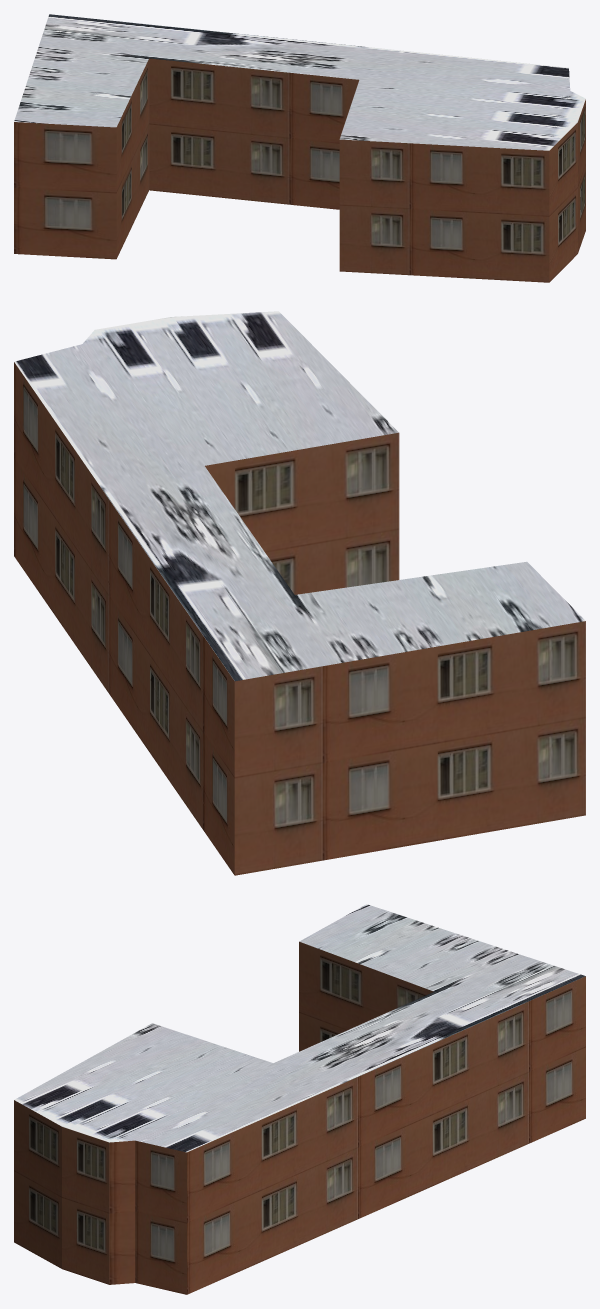
File: ResTex__2453.fbx
3 views of the same model, one above another, from view 1: azimuth 30°, elevation 25°; view 2: azimuth 150°, elevation 25°; view 3: azimuth 270°, elevation 25° (orthographic). The views are drawn at different scales.
Parts seen in each view (by area): view 1: CityEngineMaterial_20_m, CityEngineMaterial_4_m; view 2: CityEngineMaterial_20_m, CityEngineMaterial_4_m; view 3: CityEngineMaterial_20_m, CityEngineMaterial_4_m.
Part boxes in pixels (x1=…): CityEngineMaterial_20_m: x1=14, y1=58, x2=585, y2=282; CityEngineMaterial_4_m: x1=14, y1=14, x2=585, y2=150; CityEngineMaterial_20_m: x1=14, y1=362, x2=585, y2=875; CityEngineMaterial_4_m: x1=14, y1=311, x2=585, y2=681; CityEngineMaterial_20_m: x1=14, y1=941, x2=585, y2=1294; CityEngineMaterial_4_m: x1=14, y1=904, x2=585, y2=1152.
Size of the model in its own units: 22.44 by 6 by 21.84.
Materials: 2 (2 with a texture image).
